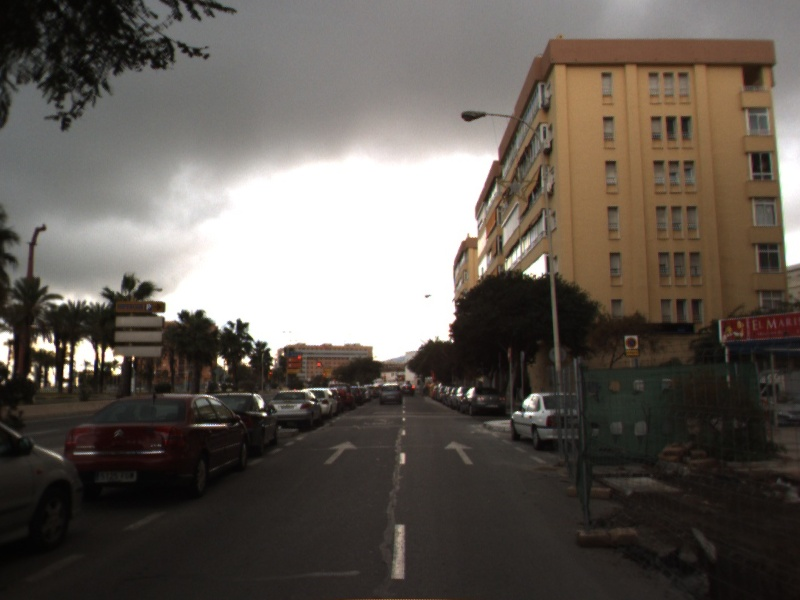STRAIGHT: (323, 439, 359, 465), (443, 439, 475, 465)
